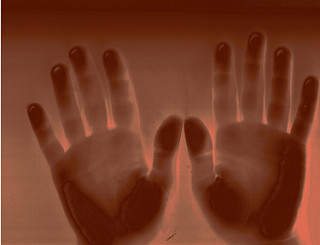palm: (60, 138, 173, 228), (213, 127, 296, 236)
